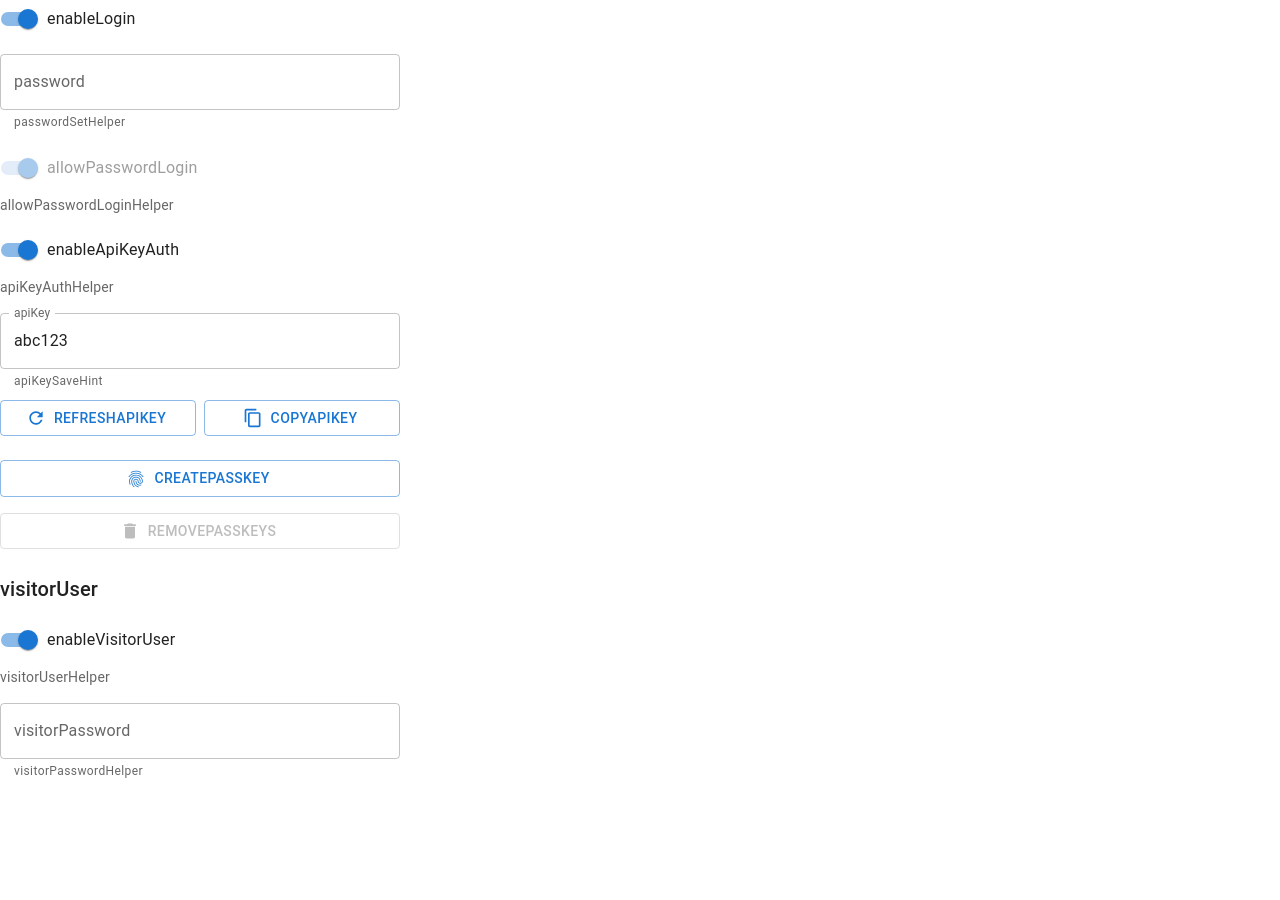
SecuritySettings › shows an error alert when copying the api key fails
Step 1. Click the button "copyApiKey" → {"x": 302, "y": 418}, box [204, 400, 400, 436]
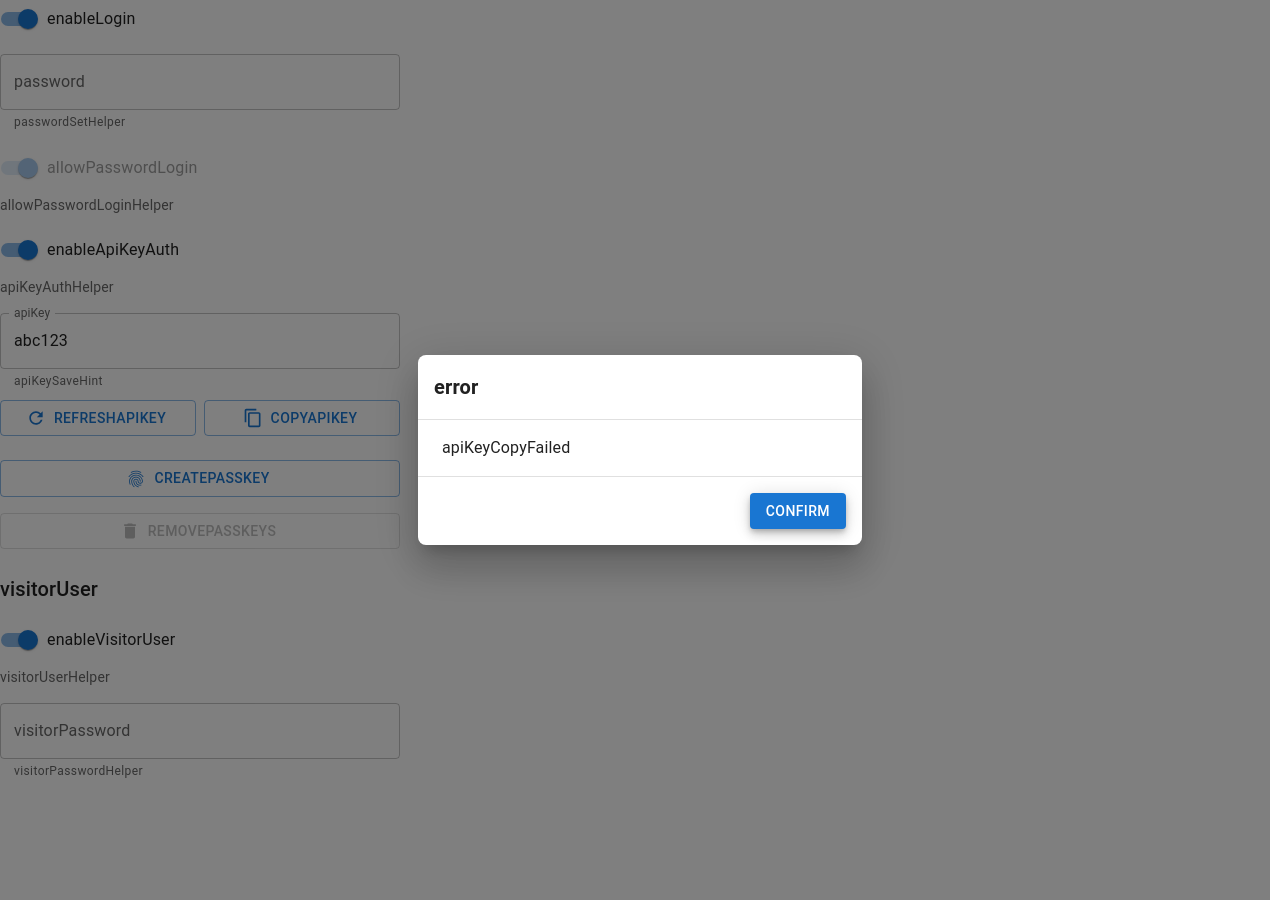
Expected: the text "apiKeyCopyFailed" is shown, [442, 438, 570, 457]
